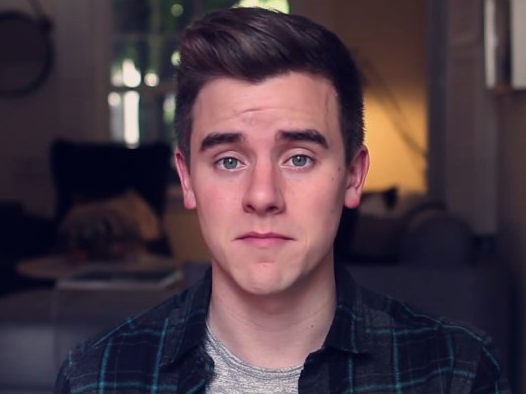bare: (190, 173, 342, 293)
